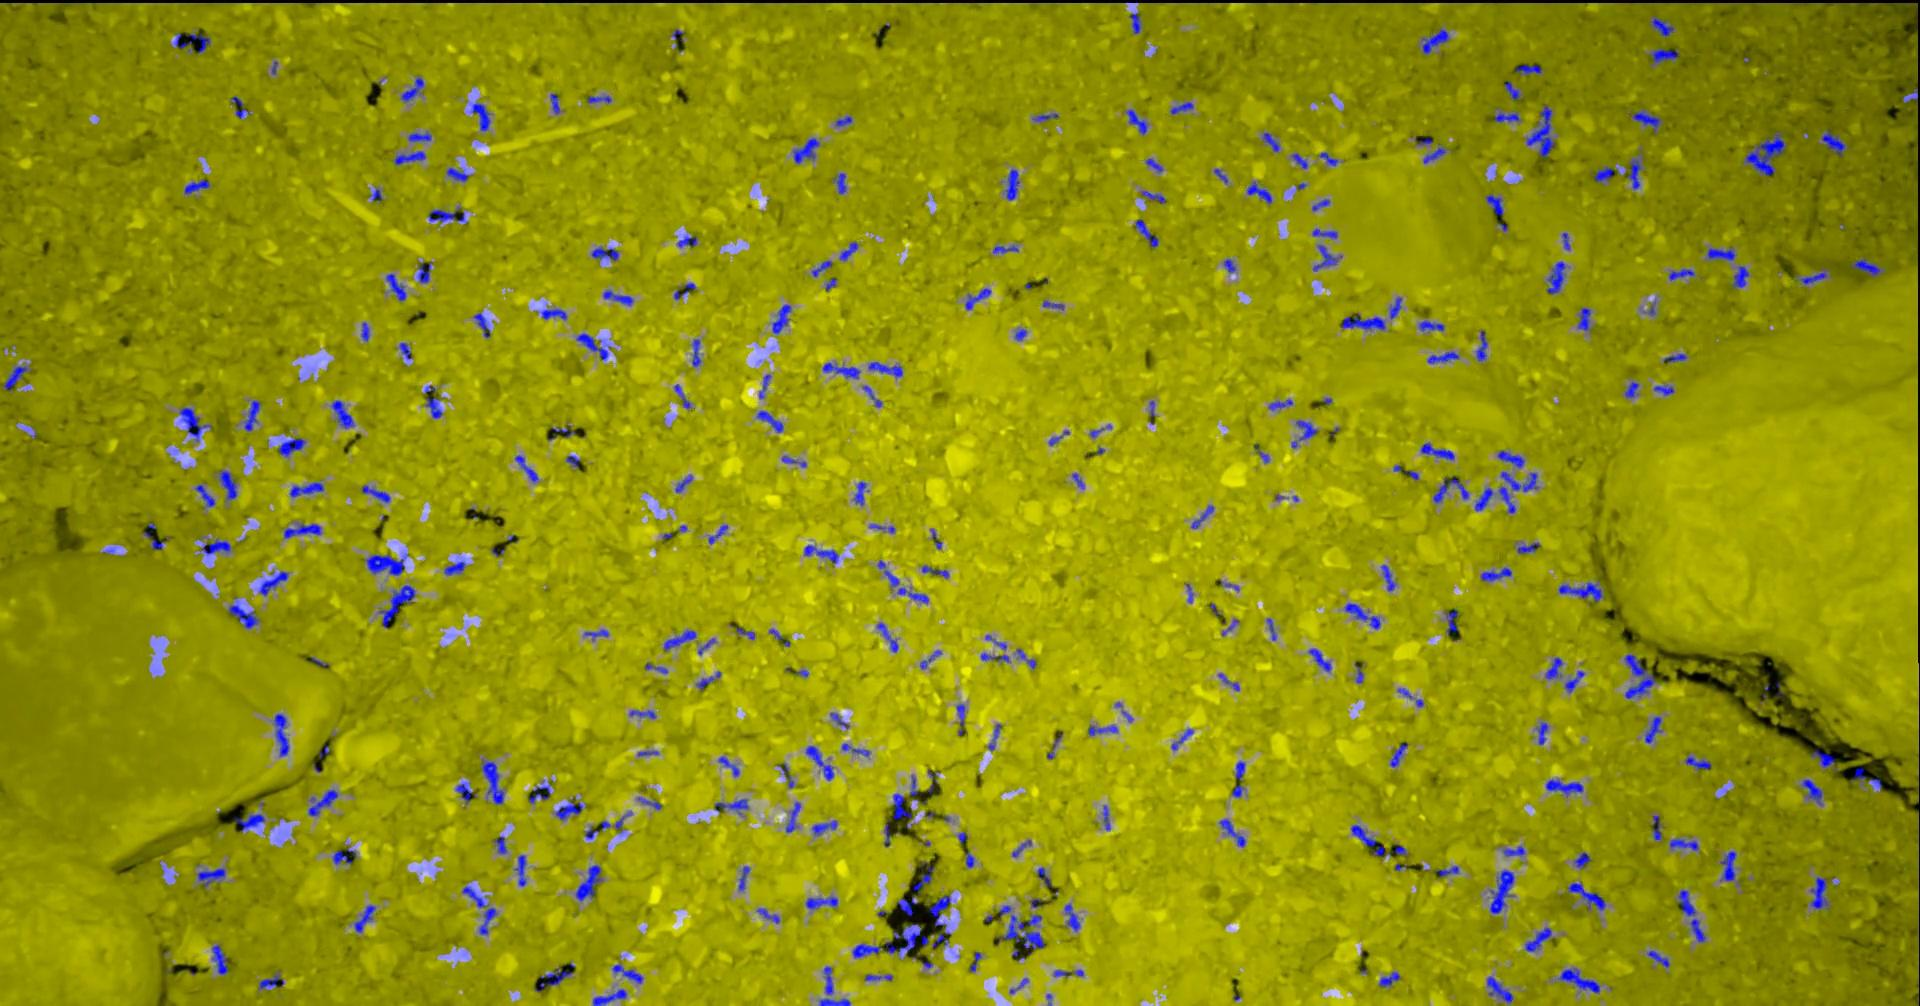ant: (852, 923, 928, 956), (877, 560, 928, 603), (1745, 131, 1785, 177), (998, 915, 1044, 954), (462, 887, 497, 934), (378, 586, 415, 627), (1526, 104, 1554, 158), (1677, 889, 1705, 942), (1623, 654, 1656, 699), (818, 967, 850, 1005), (178, 406, 210, 441), (1350, 824, 1384, 856), (930, 894, 950, 948), (1490, 869, 1514, 913), (1567, 882, 1605, 909), (1557, 968, 1599, 993), (575, 864, 602, 901), (481, 760, 503, 804), (805, 746, 833, 780), (1432, 476, 1468, 503), (1343, 603, 1380, 629), (364, 554, 404, 575), (575, 333, 607, 359), (1558, 582, 1603, 601), (535, 968, 571, 991), (1312, 244, 1341, 271), (307, 789, 337, 815), (1486, 976, 1512, 1005), (1500, 471, 1538, 492), (174, 32, 210, 53), (1218, 819, 1244, 847), (1524, 927, 1554, 951), (1341, 312, 1385, 329), (912, 861, 935, 893), (1421, 28, 1448, 55), (3, 365, 30, 390), (229, 605, 259, 627), (663, 629, 695, 650), (792, 137, 819, 163), (803, 544, 838, 563), (1545, 779, 1583, 796), (1134, 218, 1158, 246), (1630, 109, 1660, 132), (259, 572, 288, 594), (1851, 767, 1881, 790), (273, 713, 288, 756), (514, 455, 538, 481), (331, 400, 354, 428), (1810, 748, 1837, 771), (876, 622, 898, 652), (1545, 260, 1564, 293), (1810, 876, 1829, 909), (771, 304, 791, 334), (822, 362, 858, 379), (611, 964, 643, 983), (756, 410, 783, 432), (353, 904, 375, 932), (428, 206, 463, 222), (400, 76, 423, 102), (1821, 130, 1844, 155), (1246, 180, 1271, 203), (1850, 257, 1881, 276), (1801, 779, 1822, 805), (555, 798, 582, 819), (1420, 442, 1454, 459), (592, 988, 626, 1005), (232, 813, 264, 831), (283, 523, 320, 539), (869, 361, 902, 377), (425, 385, 442, 418), (714, 798, 747, 814), (1623, 158, 1641, 188), (385, 273, 405, 300), (964, 288, 990, 309), (218, 470, 236, 500), (142, 522, 163, 549), (211, 944, 229, 974), (471, 102, 490, 130), (277, 437, 305, 456), (197, 868, 225, 887), (891, 793, 910, 819), (244, 400, 260, 431), (1719, 850, 1736, 880), (1230, 761, 1244, 796), (1191, 506, 1213, 528), (1308, 648, 1330, 671), (1497, 450, 1524, 467), (1171, 728, 1192, 749), (1650, 15, 1672, 36), (230, 95, 250, 118), (602, 290, 632, 305), (785, 801, 800, 832), (1650, 47, 1677, 64), (392, 150, 425, 164), (290, 481, 323, 495), (361, 485, 389, 502), (1126, 109, 1145, 133), (1423, 144, 1448, 163), (1474, 486, 1493, 511), (585, 821, 610, 840), (695, 671, 720, 688), (201, 539, 230, 554), (1498, 486, 1515, 513), (1644, 716, 1661, 743), (717, 756, 739, 776), (1295, 420, 1318, 439), (1564, 669, 1583, 692), (1389, 743, 1407, 767), (1004, 169, 1018, 199), (1705, 246, 1736, 260), (1481, 567, 1511, 580), (1064, 903, 1079, 931), (258, 973, 283, 989), (1016, 648, 1036, 668), (1484, 193, 1503, 215), (862, 385, 881, 406), (196, 484, 215, 506), (1684, 754, 1710, 770), (805, 895, 837, 908), (472, 312, 489, 337), (673, 384, 690, 408), (331, 847, 356, 864), (590, 246, 618, 260), (184, 179, 210, 194), (1427, 351, 1458, 363), (1380, 564, 1396, 589), (770, 627, 790, 647), (455, 782, 475, 801), (897, 895, 916, 916), (1731, 265, 1749, 287), (919, 650, 941, 668), (528, 785, 550, 803), (1217, 673, 1239, 690), (1646, 950, 1669, 967), (987, 723, 1001, 749), (1592, 166, 1617, 182), (1476, 329, 1487, 361), (709, 525, 728, 544), (673, 282, 695, 298), (1545, 657, 1562, 678), (921, 565, 949, 578), (841, 743, 869, 756), (811, 821, 837, 835), (1087, 724, 1117, 735), (756, 908, 778, 923), (839, 241, 857, 260), (778, 763, 792, 788), (1011, 840, 1031, 856), (514, 854, 524, 887), (1797, 272, 1826, 283), (1669, 838, 1698, 850), (1378, 970, 1399, 986), (1445, 608, 1458, 634), (446, 166, 469, 180), (1503, 80, 1520, 99), (1262, 132, 1279, 151), (551, 424, 575, 437), (781, 455, 805, 467), (853, 481, 866, 506), (637, 796, 662, 809), (1515, 64, 1542, 75), (417, 260, 430, 282), (676, 474, 692, 492), (1142, 191, 1164, 203), (811, 260, 830, 276), (1669, 268, 1694, 279), (541, 307, 566, 319), (1577, 307, 1590, 330), (583, 629, 608, 640), (1036, 868, 1051, 887), (758, 373, 770, 398), (738, 866, 749, 890), (833, 171, 846, 193), (1310, 227, 1337, 238), (830, 713, 848, 728), (444, 561, 463, 575), (1170, 102, 1192, 113), (1269, 399, 1291, 410), (644, 662, 667, 673), (1435, 865, 1458, 876), (980, 652, 1010, 661), (1493, 112, 1519, 122), (1418, 320, 1444, 330), (956, 702, 964, 735), (1573, 852, 1590, 868), (1129, 11, 1140, 33), (1389, 297, 1401, 319), (1651, 815, 1661, 840), (969, 951, 982, 970), (1031, 112, 1058, 121), (691, 339, 700, 366), (629, 709, 655, 718), (408, 131, 430, 141), (1291, 152, 1307, 168), (1516, 542, 1539, 553), (1537, 721, 1547, 744), (1503, 845, 1524, 856), (1902, 88, 1919, 102), (1145, 158, 1162, 171), (1624, 381, 1638, 398), (1319, 152, 1337, 165), (493, 836, 505, 854), (1310, 198, 1330, 210), (677, 235, 696, 246), (1653, 384, 1672, 395), (909, 776, 918, 800), (399, 342, 411, 358), (992, 245, 1018, 253), (1663, 353, 1686, 362), (370, 187, 382, 202), (1053, 969, 1083, 976), (550, 93, 559, 114), (1223, 258, 1236, 272), (863, 974, 891, 981), (883, 823, 890, 846), (585, 95, 611, 102), (361, 323, 370, 340), (836, 116, 851, 126), (965, 851, 974, 868), (1015, 328, 1026, 340), (1103, 805, 1109, 829)
